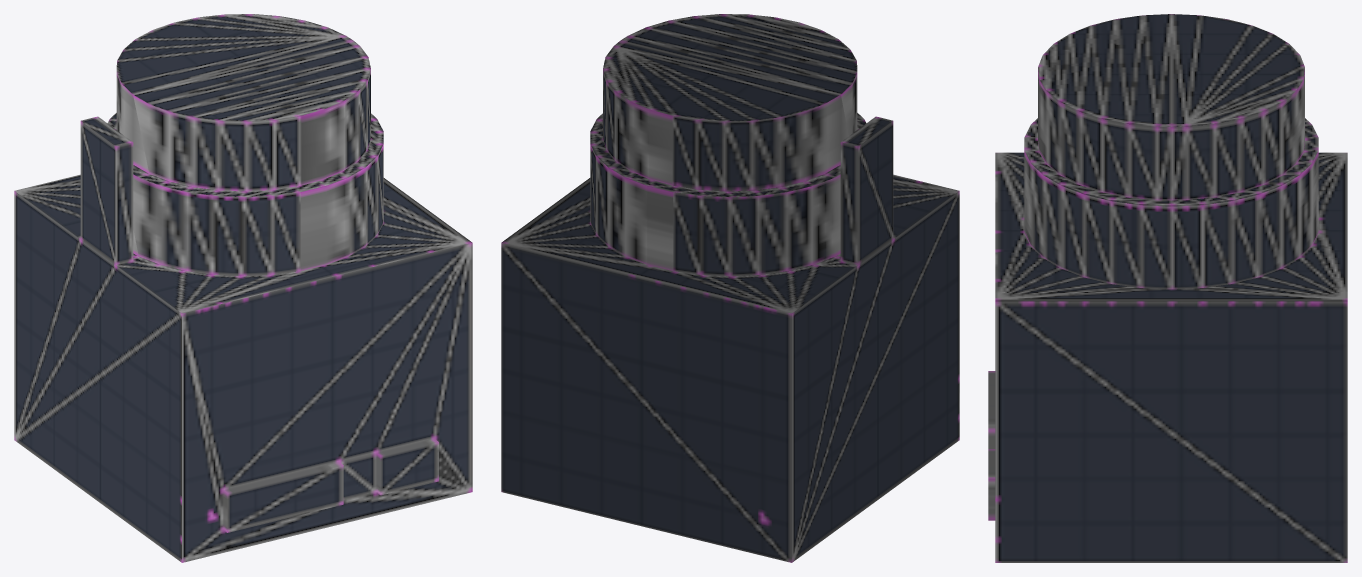
The model's file is hokuyo_urg.dae.
3 views of the same model, side by side, from view 1: azimuth 30°, elevation 25°; view 2: azimuth 150°, elevation 25°; view 3: azimuth 270°, elevation 25° (orthographic). The views are drawn at different scales.
Visible parts, largest first — view 1: Mesh; view 2: Mesh; view 3: Mesh.
Boxes of the visible parts, x1,y1,x2,y2 form: Mesh: (14, 14, 472, 562); Mesh: (501, 14, 959, 562); Mesh: (988, 14, 1347, 562).
Bounding box in the file's own units: 0.05 × 0.051 × 0.0655.
1 material, 1 textured.
